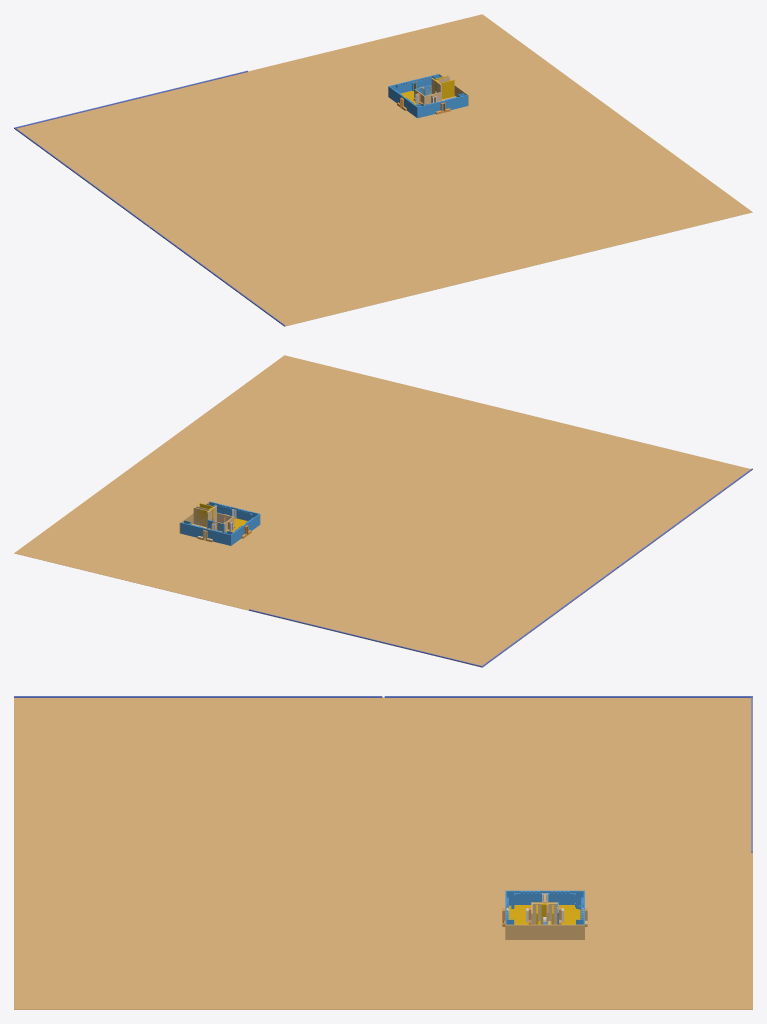
The model's file is beix.glb.
3 renders of one model, top to bottom at view 1: azimuth 30°, elevation 25°; view 2: azimuth 150°, elevation 25°; view 3: azimuth 270°, elevation 25°, orthographic. The views are drawn at different scales.
Visible parts, largest first — view 1: Cube.005; view 2: Cube.005; view 3: Cube.005.
Part boxes in pixels (left/top/right/bottom): Cube.005: left=14, top=14, right=752, bottom=326; Cube.005: left=14, top=355, right=752, bottom=667; Cube.005: left=14, top=696, right=752, bottom=1009.
Size of the model in its own units: 3000 by 114 by 3000.
